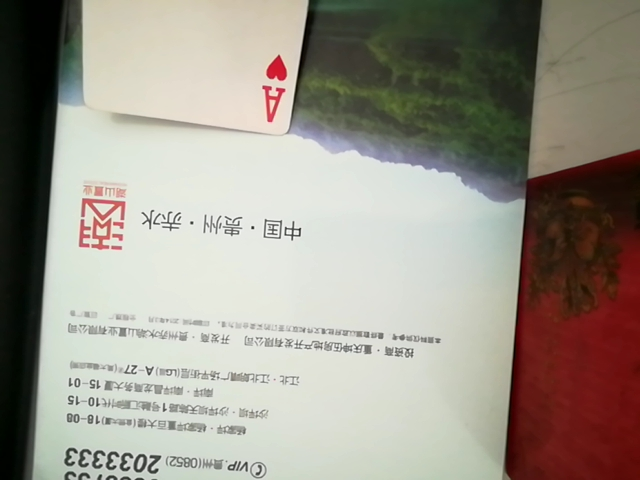hx a: (64, 0, 328, 130)
